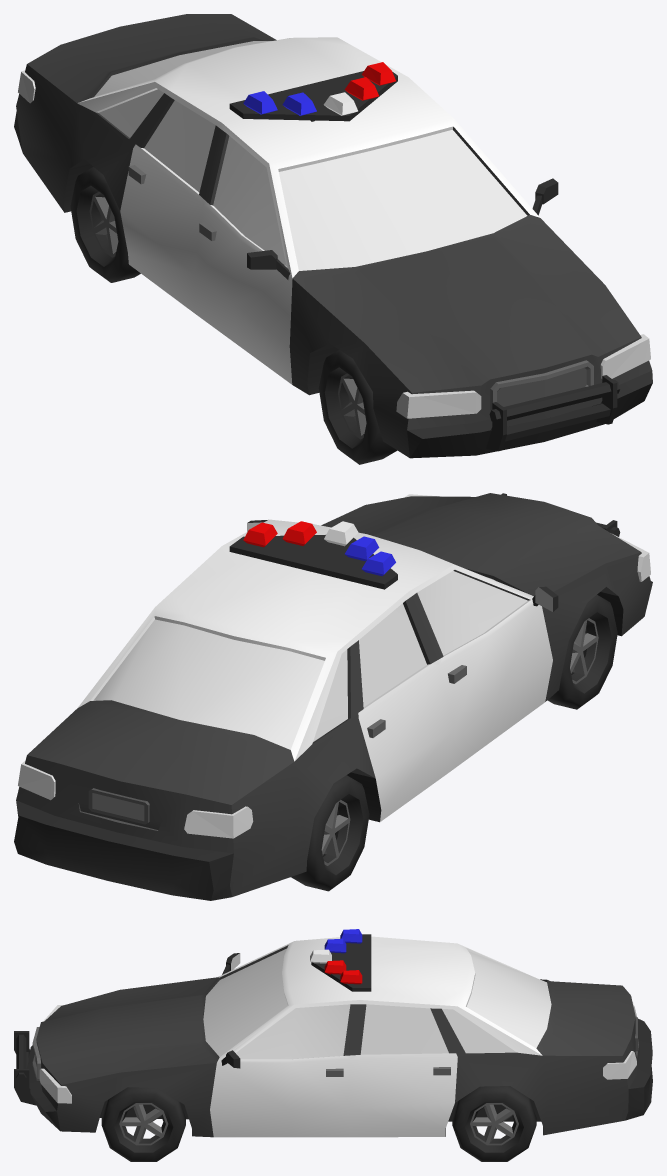
File: police.fbx
3 renders of one model, top to bottom at view 1: azimuth 30°, elevation 25°; view 2: azimuth 150°, elevation 25°; view 3: azimuth 270°, elevation 25°, orthographic. The views are drawn at different scales.
Parts seen in each view (by area): view 1: police, wheels.028, wheels.029; view 2: police, wheels.029, wheels.028; view 3: police, wheels.030, wheels.031.
Boxes of the visible parts, x1,y1,x2,y2 form: police: (14, 14, 652, 458); wheels.028: (318, 350, 397, 464); wheels.029: (70, 167, 140, 282); police: (14, 493, 652, 900); wheels.029: (291, 775, 369, 891); wheels.028: (547, 595, 617, 709); police: (14, 929, 652, 1137); wheels.030: (452, 1086, 536, 1161); wheels.031: (101, 1087, 185, 1161).
Bounding box in the file's own units: 225 × 167 × 572.
